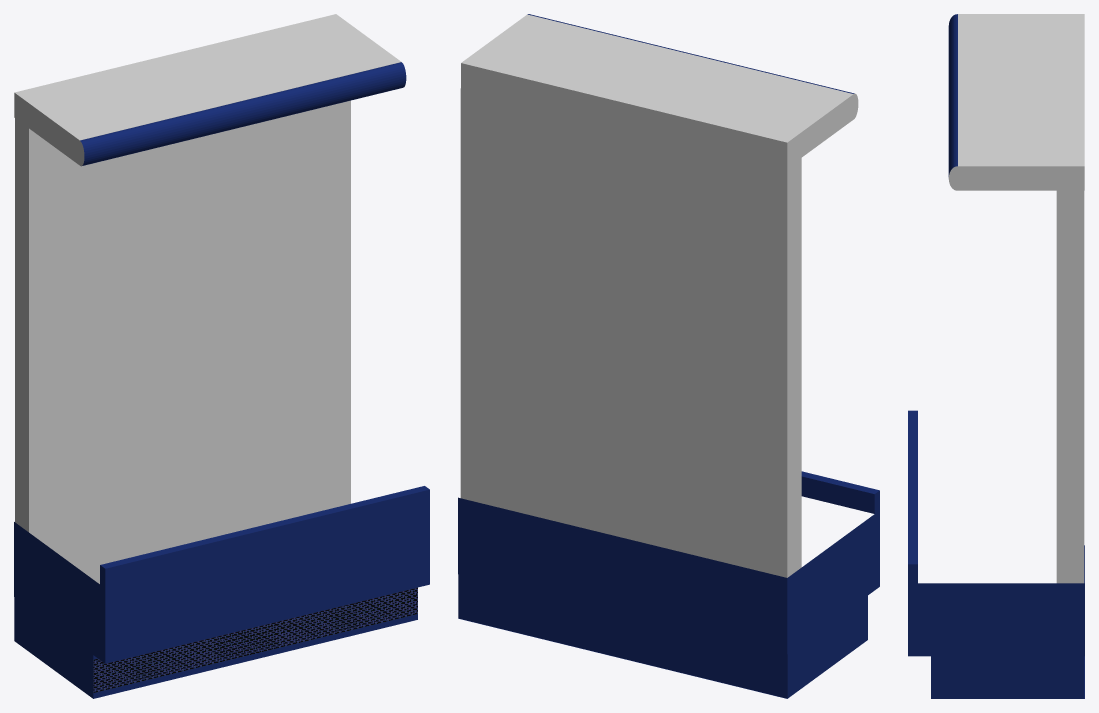
Rendered from refrigerado.glb.
3 renders of one model, left to right at view 1: azimuth 30°, elevation 25°; view 2: azimuth 150°, elevation 25°; view 3: azimuth 270°, elevation 25°, orthographic. The views are drawn at different scales.
Parts seen in each view (by area): view 1: pared; view 2: pared; view 3: pared.
Part boxes in pixels (bbox=[...]): pared: bbox=[14, 14, 429, 698]; pared: bbox=[458, 14, 879, 698]; pared: bbox=[908, 14, 1084, 698].
Size of the model in its own units: 34.02 by 54.87 by 16.55.
Materials: 3 (1 with a texture image).
